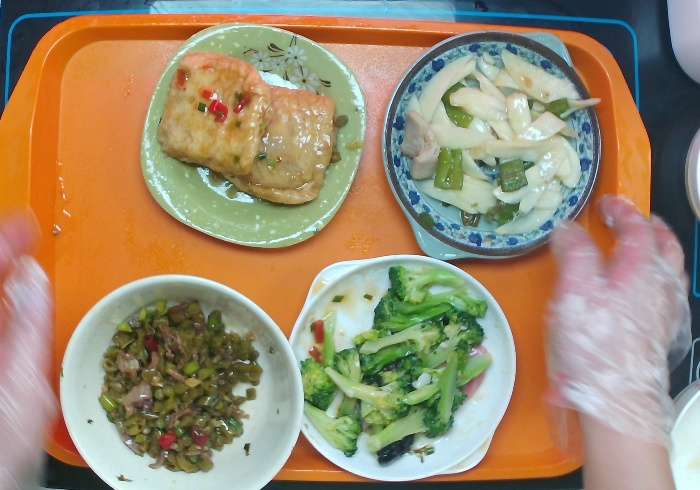NLDX-Bai_Se_Shuang_Er_Die: (291, 248, 520, 487)
NLDX-Bai_Se_Yuan_Wan: (46, 255, 318, 490)
NLDX-Lv_Hua_Fang_Die: (133, 20, 373, 249)
NLDX-Qing_Hua_Shuang_Er_Die: (385, 19, 604, 261)
